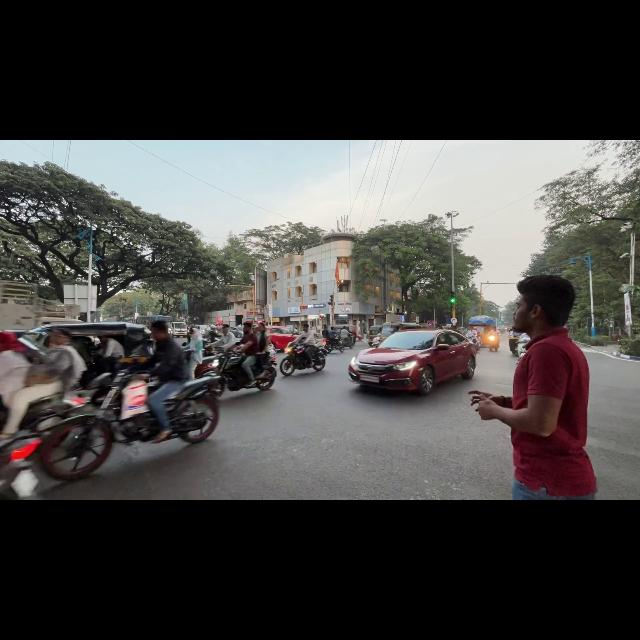bus: (136, 316, 172, 328)
car: (349, 329, 476, 394), (267, 326, 296, 349), (171, 322, 187, 337), (193, 325, 210, 333)
motorcycle: (39, 370, 159, 480), (211, 351, 276, 396), (19, 392, 87, 432), (0, 433, 41, 499), (280, 344, 325, 376), (517, 333, 530, 360), (323, 338, 344, 354), (465, 332, 482, 349), (485, 334, 499, 351), (370, 337, 381, 346)
truck: (0, 281, 80, 330)
